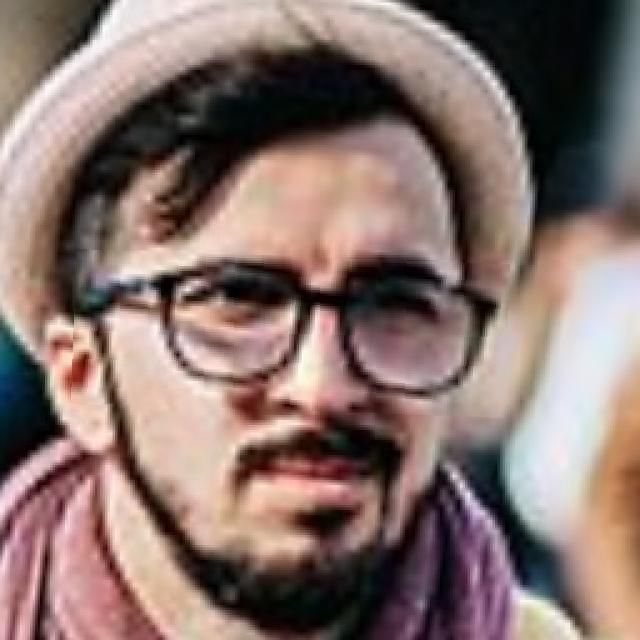glasses: (72, 253, 510, 415)
